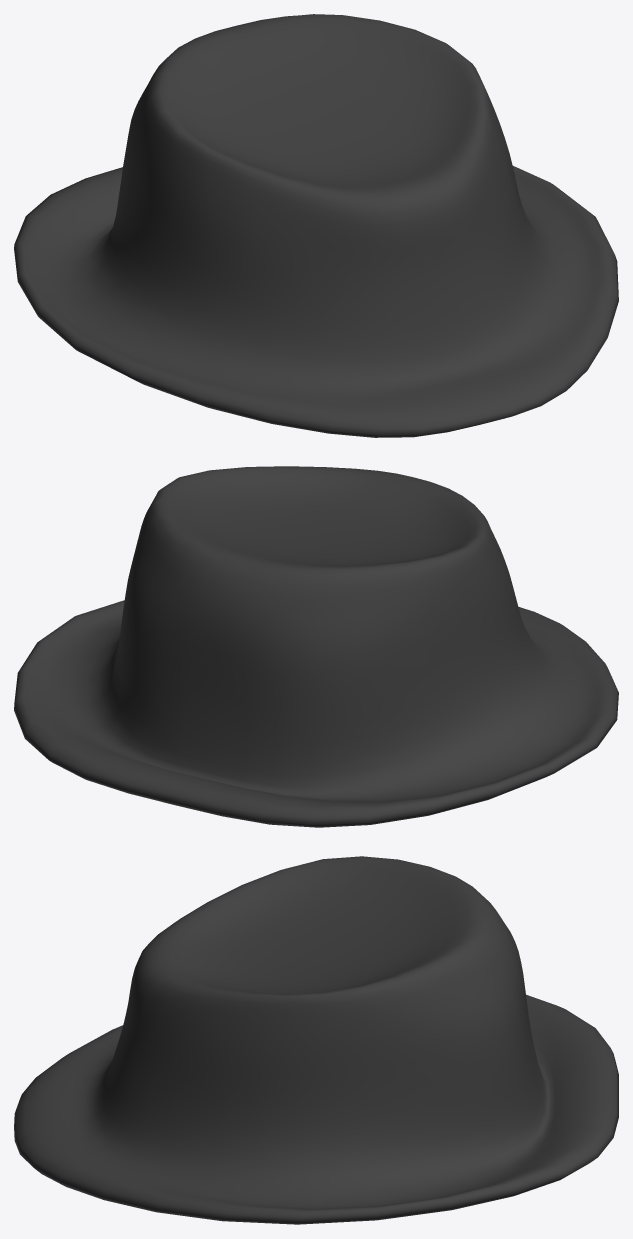
The model's file is Project Name.obj.
3 renders of one model, top to bottom at view 1: azimuth 30°, elevation 25°; view 2: azimuth 150°, elevation 25°; view 3: azimuth 270°, elevation 25°, orthographic. The views are drawn at different scales.
Parts seen in each view (by area): view 1: 000_Cube.005; view 2: 000_Cube.005; view 3: 000_Cube.005.
Boxes of the visible parts, x1,y1,x2,y2 form: 000_Cube.005: (14,14,618,437); 000_Cube.005: (14,466,618,827); 000_Cube.005: (14,856,618,1224).
Size of the model in its own units: 3.49 by 1.47 by 3.65.
1 material, 1 textured.
